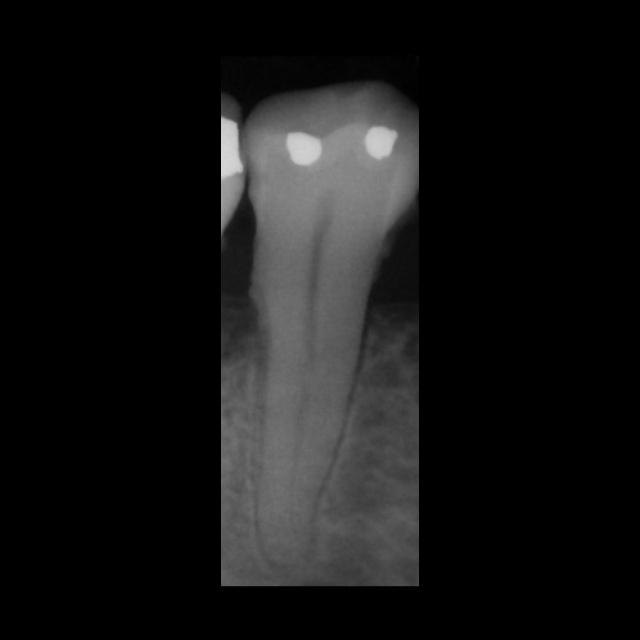tooth: (240, 83, 419, 570)
